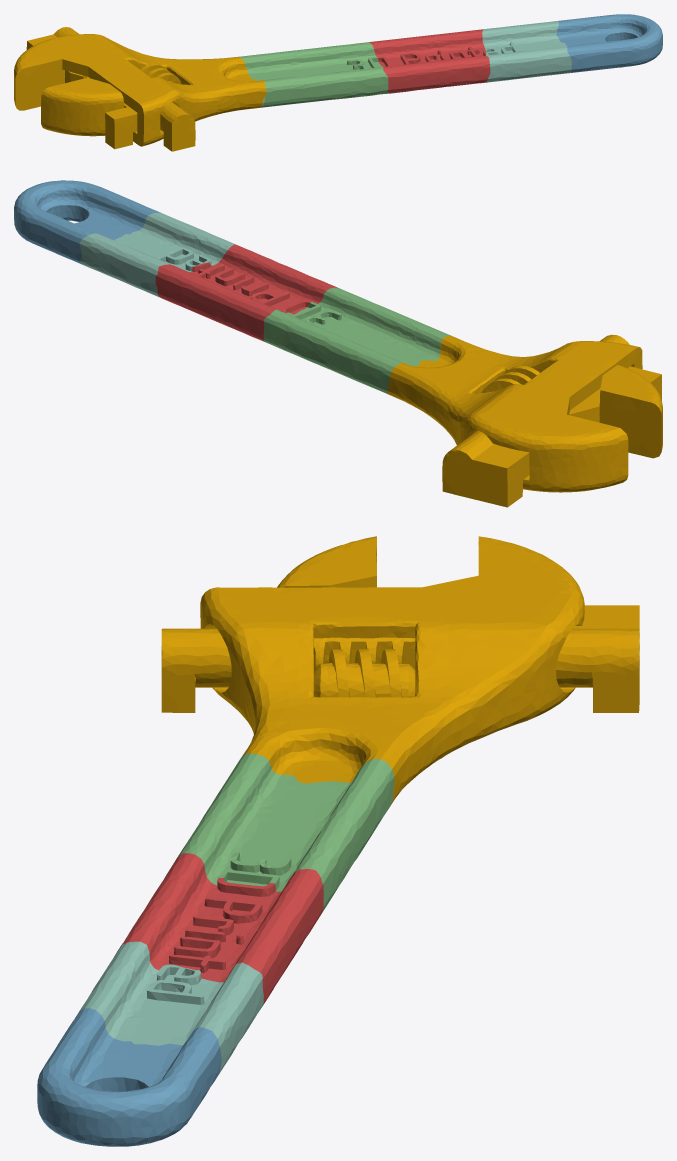
File: fractured_18_6pcs.glb
3 views of the same model, one above another, from view 1: azimuth 30°, elevation 25°; view 2: azimuth 150°, elevation 25°; view 3: azimuth 270°, elevation 25° (orthographic). The views are drawn at different scales.
Parts seen in each view (by area): view 1: piece_0.obj, piece_3.obj, piece_1.obj, piece_2.obj, piece_4.obj; view 2: piece_0.obj, piece_3.obj, piece_1.obj, piece_2.obj, piece_4.obj; view 3: piece_0.obj, piece_3.obj, piece_2.obj, piece_1.obj, piece_4.obj.
Boxes of the visible parts, left/top/right/bottom form: piece_0.obj: left=14, top=27, right=266, bottom=151; piece_3.obj: left=239, top=42, right=389, bottom=107; piece_1.obj: left=369, top=29, right=490, bottom=93; piece_2.obj: left=556, top=14, right=662, bottom=72; piece_4.obj: left=482, top=20, right=571, bottom=82; piece_0.obj: left=387, top=334, right=662, bottom=507; piece_3.obj: left=263, top=287, right=451, bottom=394; piece_1.obj: left=155, top=244, right=337, bottom=342; piece_2.obj: left=14, top=180, right=160, bottom=264; piece_4.obj: left=79, top=212, right=234, bottom=297; piece_0.obj: left=161, top=536, right=639, bottom=805; piece_3.obj: left=176, top=753, right=394, bottom=912; piece_2.obj: left=37, top=1008, right=221, bottom=1146; piece_1.obj: left=120, top=853, right=323, bottom=1007; piece_4.obj: left=78, top=941, right=263, bottom=1073.
Bounding box in the file's own units: 1 × 0.0733 × 0.473.
